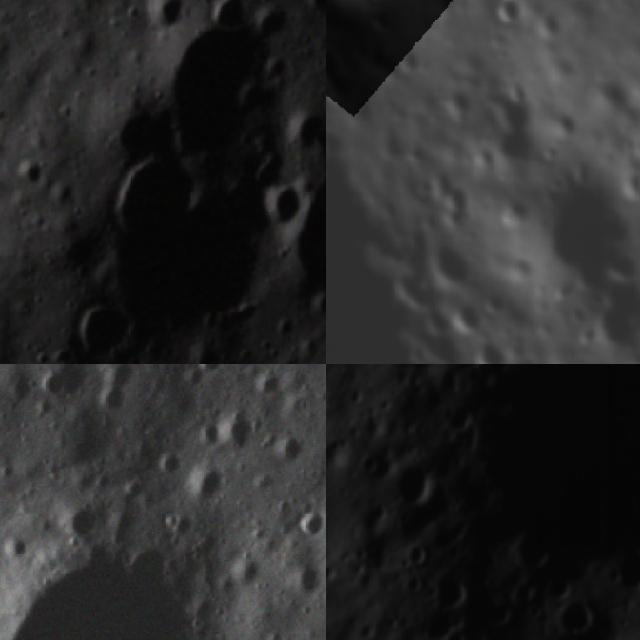crater: (0, 470, 296, 640), (326, 55, 453, 364), (456, 364, 640, 567), (109, 154, 284, 323), (494, 159, 640, 310), (168, 11, 290, 166), (110, 148, 190, 240), (416, 228, 478, 306), (202, 388, 272, 457), (384, 449, 450, 521), (572, 296, 640, 364), (175, 448, 239, 514), (72, 300, 137, 364), (298, 166, 326, 303), (59, 490, 112, 546), (411, 315, 471, 364), (268, 426, 318, 475), (554, 588, 600, 640), (427, 568, 481, 612), (0, 364, 47, 411), (146, 439, 192, 486), (286, 552, 326, 603), (89, 377, 134, 422), (290, 495, 326, 549), (463, 325, 511, 364), (93, 364, 148, 397), (31, 364, 77, 403), (266, 188, 304, 234), (143, 0, 185, 34), (399, 539, 435, 576), (493, 345, 562, 364), (205, 0, 250, 28), (484, 0, 525, 28), (18, 154, 46, 189), (188, 364, 233, 378)
